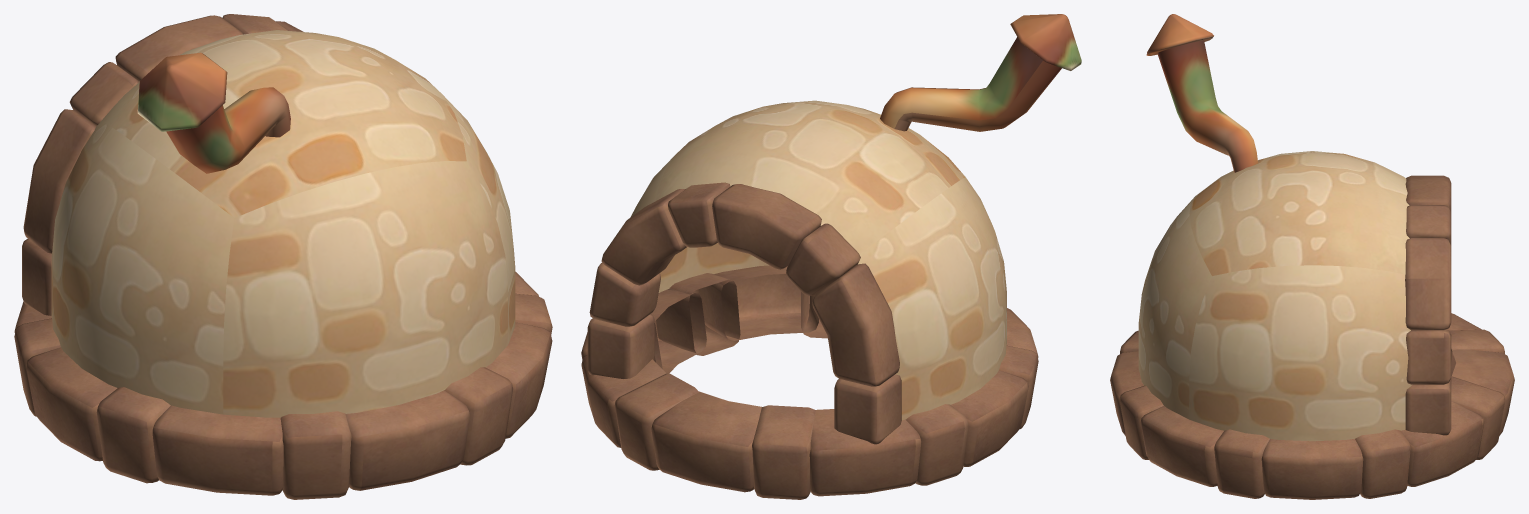
Rendered from SM_Furnace.fbx.
3 renders of one model, left to right at view 1: azimuth 30°, elevation 25°; view 2: azimuth 150°, elevation 25°; view 3: azimuth 270°, elevation 25°, orthographic. The views are drawn at different scales.
Parts seen in each view (by area): view 1: furnace; view 2: furnace; view 3: furnace.
Boxes of the visible parts, x1,y1,x2,y2 form: furnace: [14, 14, 552, 499]; furnace: [581, 14, 1081, 499]; furnace: [1110, 14, 1514, 499].
Size of the model in its own units: 0.6557 by 0.5975 by 0.6557.
